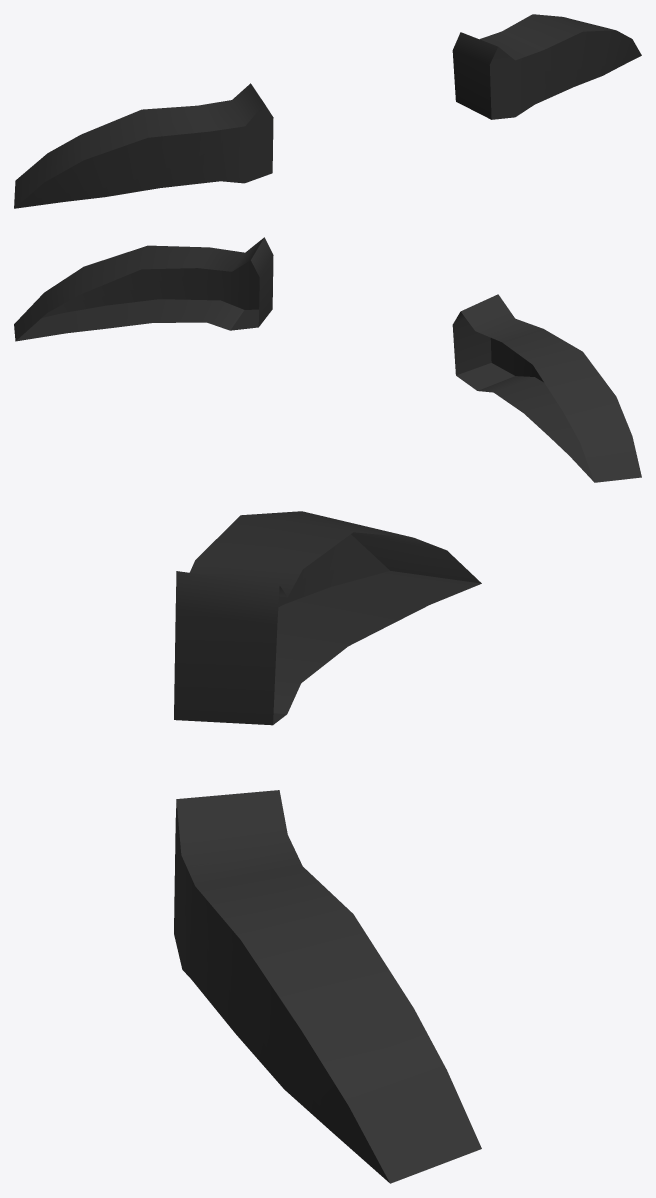
File: Eyebrow_15.fbx
3 renders of one model, top to bottom at view 1: azimuth 30°, elevation 25°; view 2: azimuth 150°, elevation 25°; view 3: azimuth 270°, elevation 25°, orthographic. The views are drawn at different scales.
Visible parts, largest first — view 1: Eyebrow_15; view 2: Eyebrow_15; view 3: Eyebrow_15.
Part boxes in pixels (box(x1,y1,x2,y2)): Eyebrow_15: box(14, 14, 641, 208); Eyebrow_15: box(14, 237, 641, 482); Eyebrow_15: box(174, 511, 481, 1183).
Size of the model in its own units: 32.68 by 4.78 by 6.94.
